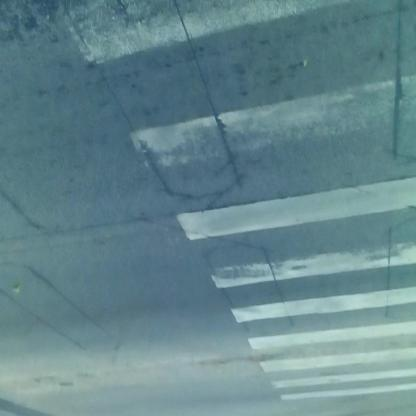crosswalk: (66, 19, 412, 400)
